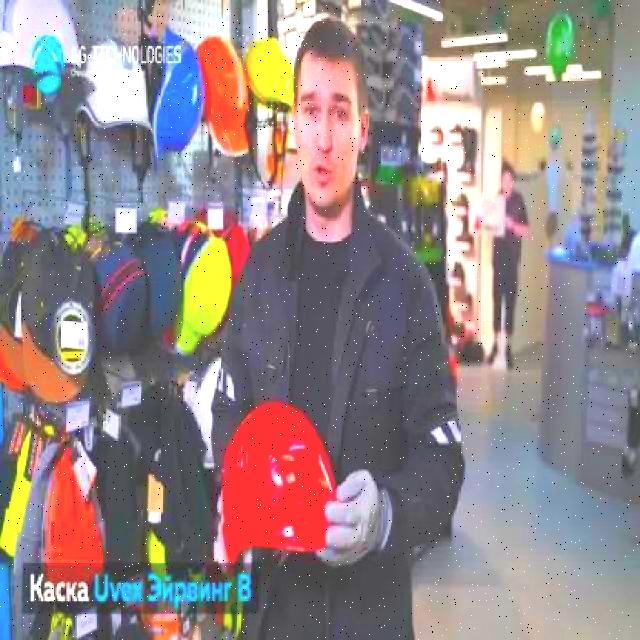Gloves: (316, 465, 386, 570)
Helmet: (221, 400, 345, 572), (74, 35, 154, 143), (152, 22, 206, 166), (0, 0, 89, 82), (196, 36, 250, 159), (242, 34, 296, 114)
